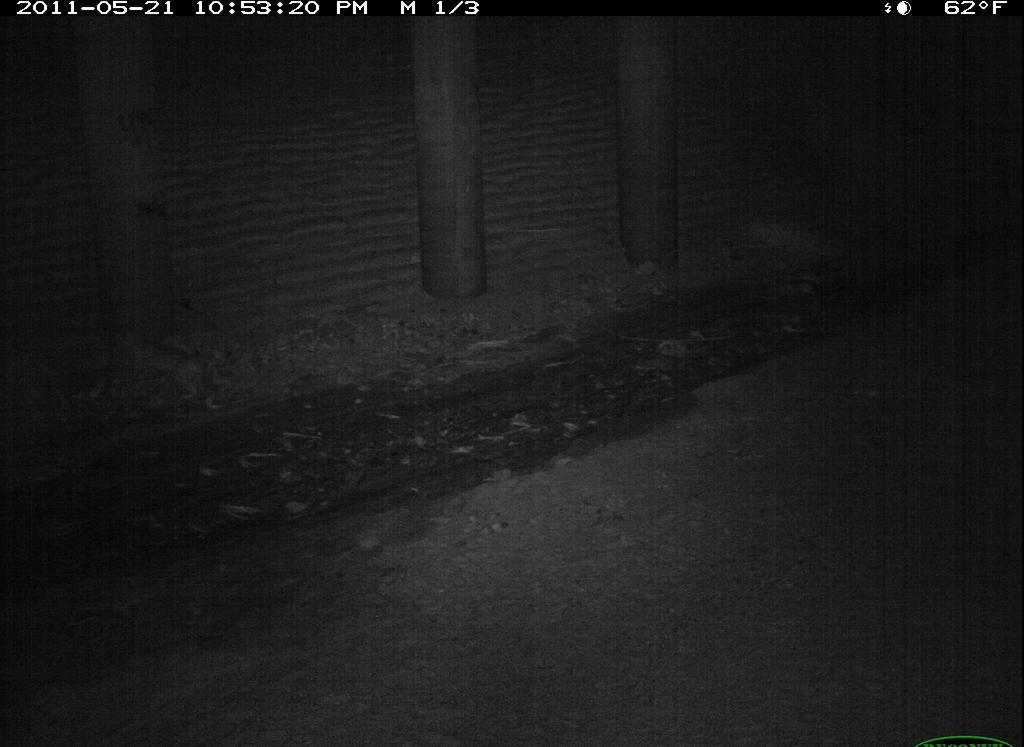bobcat: (241, 662, 457, 747)
